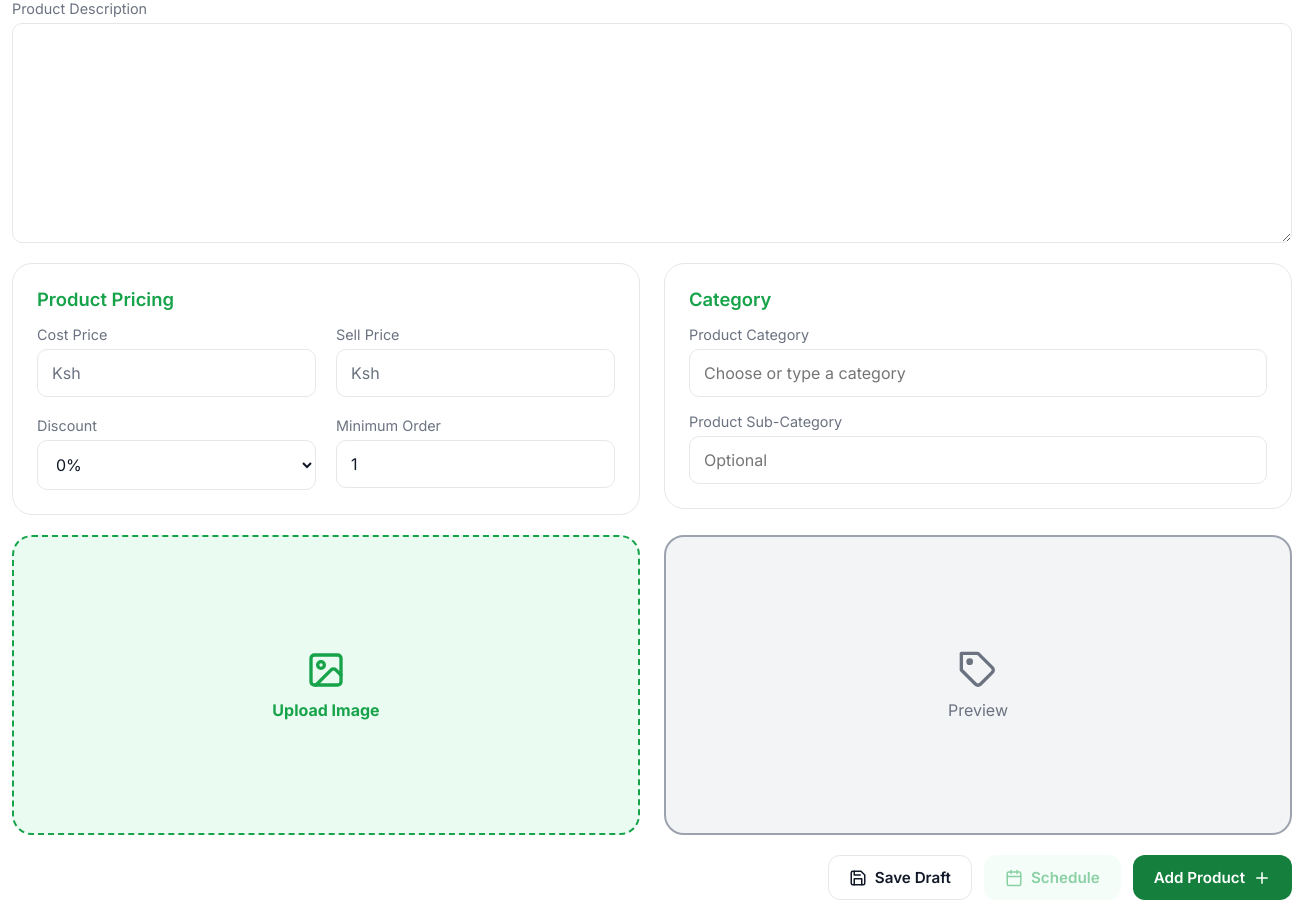
Scenario: shows validation errors for an empty form and does not POST
(page scrolled)
Click the button "Add Product".
click(1212, 878)  # box [1133,855,1292,899]
(page scrolled)
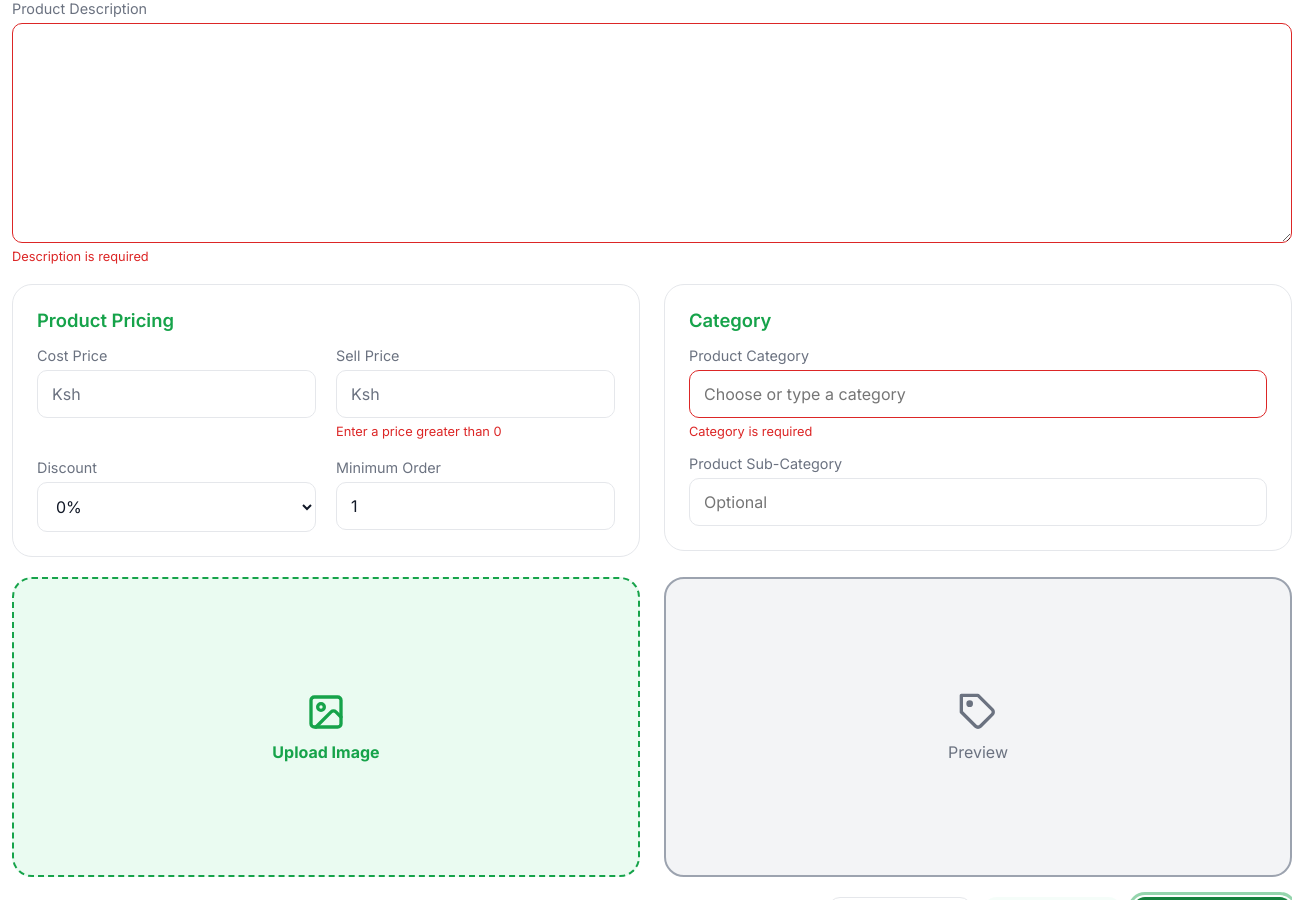
Result: the text "Enter a price greater than 0" is shown at [336,424,502,439]
